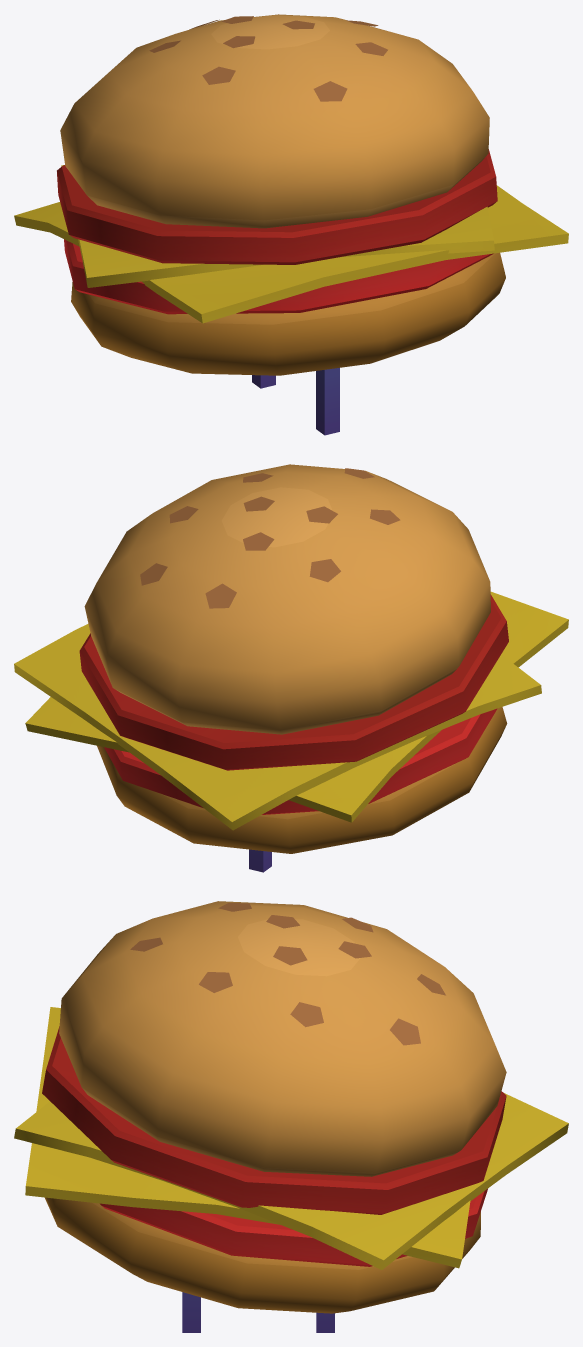
File: BurgerSign_3_B.fbx
3 views of the same model, one above another, from view 1: azimuth 30°, elevation 25°; view 2: azimuth 150°, elevation 25°; view 3: azimuth 270°, elevation 25° (orthographic). The views are drawn at different scales.
Visible parts, largest first — view 1: BurgerSign_3_B; view 2: BurgerSign_3_B; view 3: BurgerSign_3_B.
Part boxes in pixels (box(x1,y1,x2,y2)): BurgerSign_3_B: box(14, 14, 568, 435); BurgerSign_3_B: box(14, 464, 568, 872); BurgerSign_3_B: box(14, 901, 568, 1332).
Size of the model in its own units: 276 by 208 by 270.
